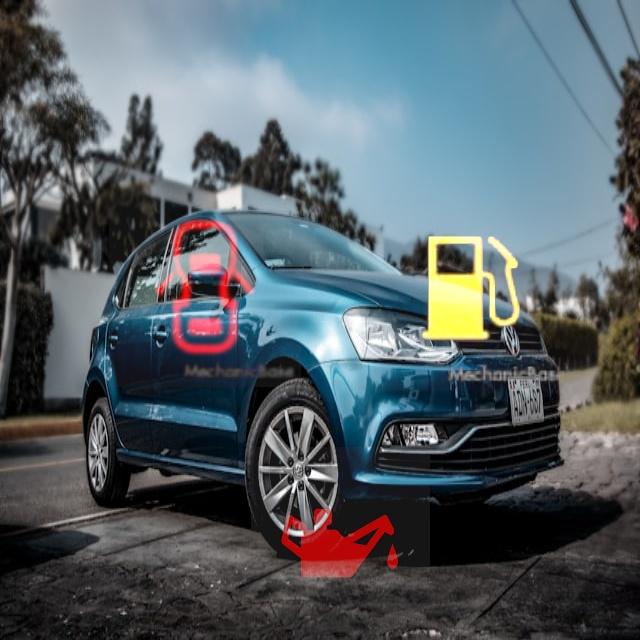symbol: (369, 187, 573, 391), (109, 195, 301, 387), (251, 447, 430, 626)
